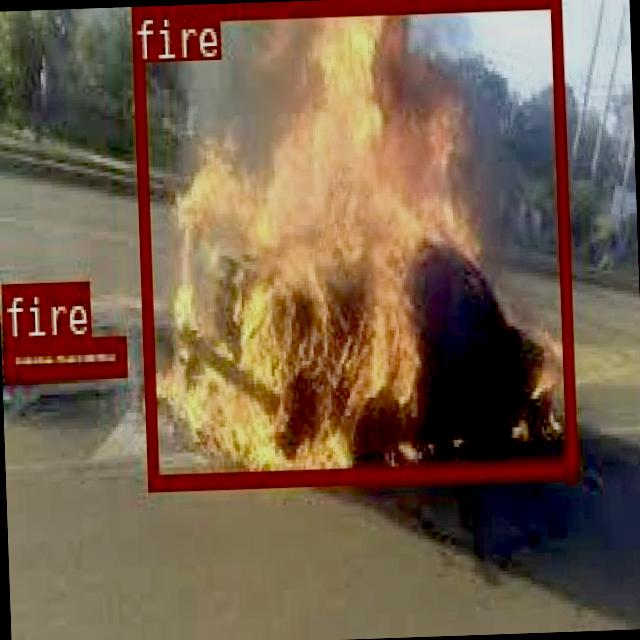fire: (128, 0, 572, 485), (2, 334, 124, 376)
